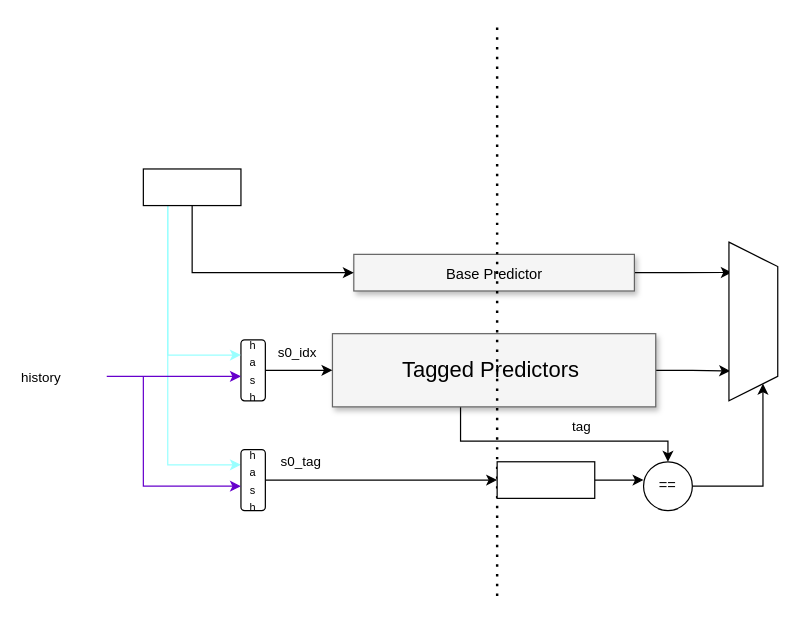
This 799x619 diagram has some shape labels left out. The shapes that lost their labels are listed below. From the top down, each one's centre as x and y in pixels, then its label:
At [191,187]: "s0_pc".
At [545,479]: "s1_tag".
